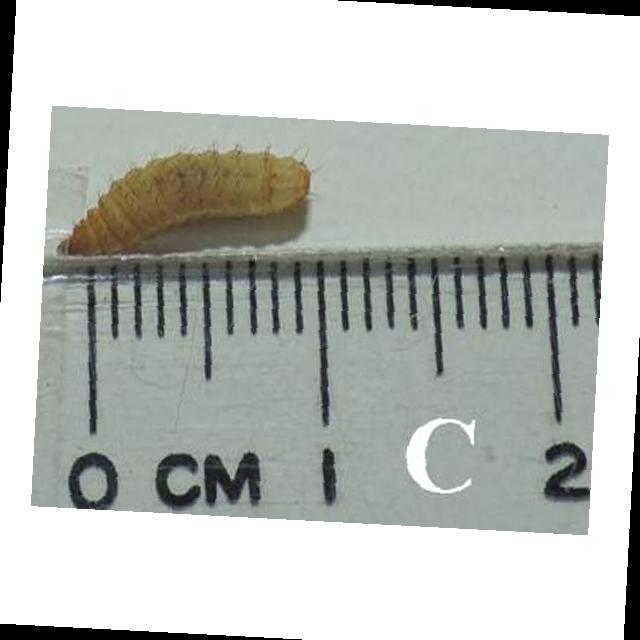Maggot: (57, 149, 312, 256)
